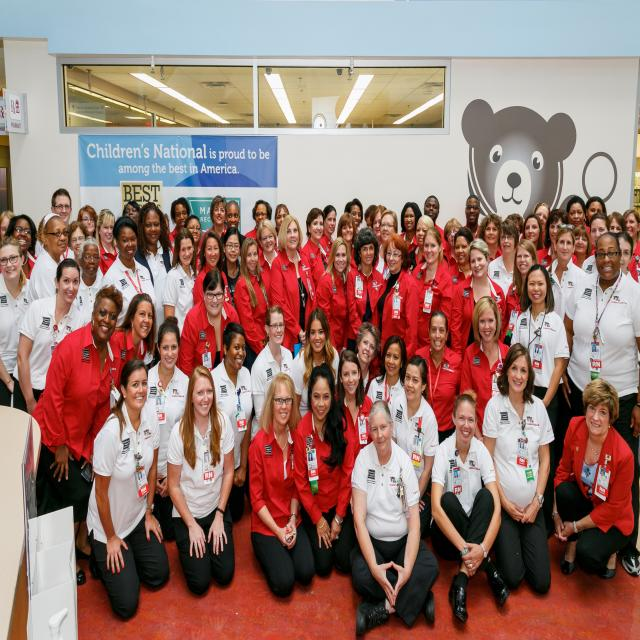body: (557, 227, 640, 576), (31, 284, 124, 588), (346, 397, 442, 640), (86, 357, 172, 620), (480, 340, 560, 602), (550, 374, 638, 591), (430, 391, 511, 624), (163, 361, 237, 601), (510, 264, 571, 538), (290, 360, 359, 584), (248, 372, 316, 598), (12, 258, 86, 416), (145, 314, 190, 544), (390, 354, 440, 541), (101, 214, 158, 370), (212, 319, 253, 524), (459, 294, 512, 444), (449, 237, 506, 367), (268, 214, 316, 360), (334, 350, 374, 516), (414, 309, 462, 445), (372, 232, 420, 368), (134, 201, 174, 364), (288, 307, 340, 429), (250, 304, 294, 446), (411, 226, 456, 351), (0, 234, 30, 405), (109, 292, 158, 392), (233, 237, 269, 372), (346, 227, 383, 354), (162, 225, 202, 338), (316, 237, 352, 358), (544, 222, 588, 321), (28, 212, 69, 308), (504, 237, 539, 347), (367, 335, 408, 414), (192, 229, 232, 307), (72, 238, 104, 329), (401, 215, 450, 274), (486, 217, 520, 301), (564, 195, 627, 237), (536, 208, 578, 269), (256, 218, 282, 316), (2, 214, 39, 282), (301, 207, 330, 290), (352, 322, 383, 395), (580, 211, 613, 277), (446, 226, 479, 288), (199, 194, 228, 262), (220, 200, 250, 265), (505, 201, 553, 241), (371, 210, 398, 274), (222, 227, 242, 312), (95, 208, 119, 277), (424, 195, 451, 253), (336, 211, 358, 275), (621, 208, 640, 282), (66, 219, 90, 276), (168, 197, 191, 255), (398, 201, 423, 254), (478, 212, 504, 262), (244, 199, 273, 242), (615, 230, 638, 283), (184, 214, 202, 273), (443, 218, 463, 271), (344, 197, 364, 249), (319, 204, 337, 261), (75, 204, 100, 242), (273, 202, 290, 255), (522, 212, 545, 251), (463, 193, 482, 240), (573, 224, 592, 269), (51, 188, 72, 228), (369, 205, 387, 246), (0, 210, 18, 244), (579, 252, 601, 278), (362, 202, 379, 232), (122, 199, 141, 223), (160, 211, 172, 237)
